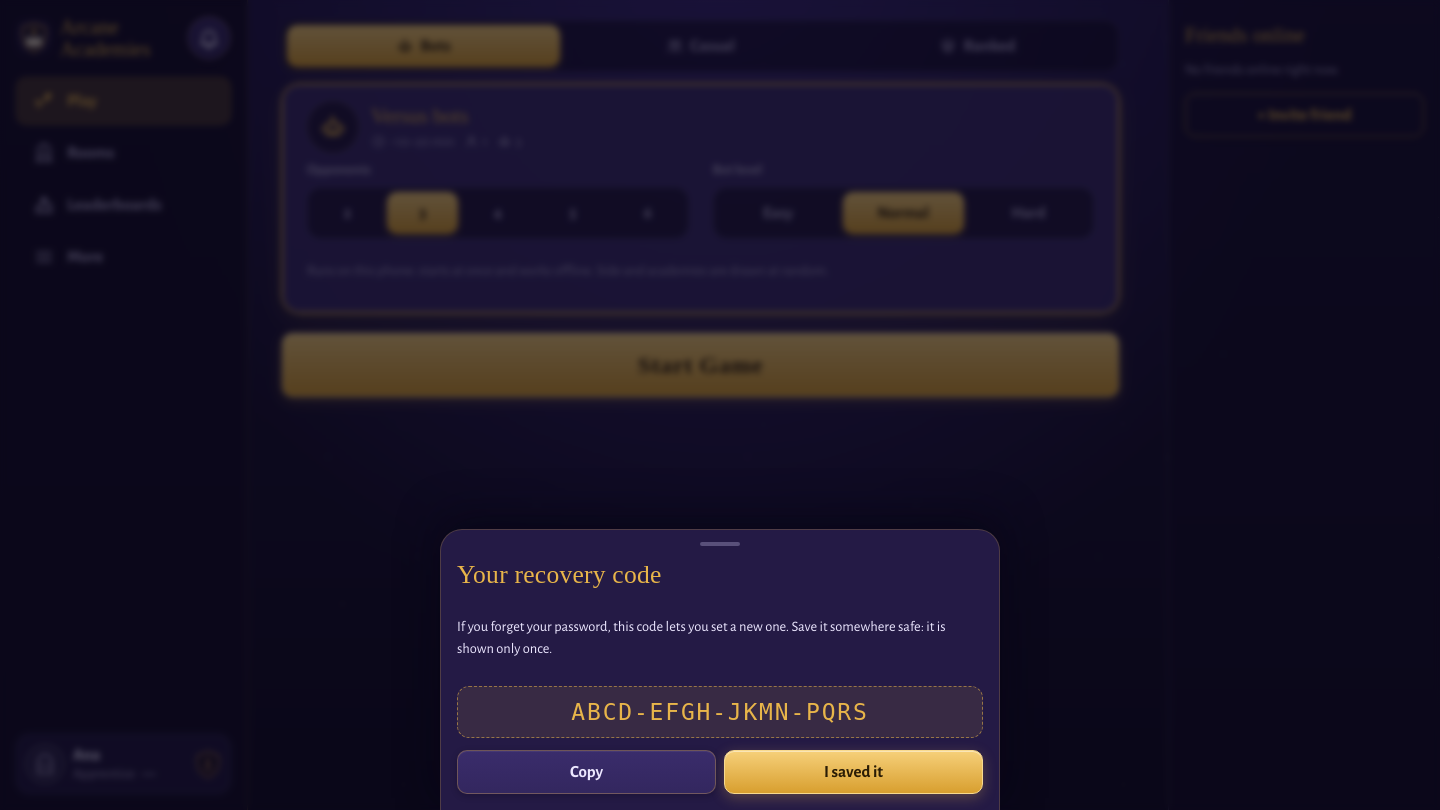
Test: safety client › shows the recovery code after signup until "I saved it"
This screenshot has width=1440, height=810.
Check: the text "ABCD-EFGH-JKMN-PQRS" is shown, box [457, 686, 983, 738]
Check: the button "Copy" is shown, box [457, 750, 716, 794]
Click the button "I saved it" at x=854, y=772, box [724, 750, 983, 794]
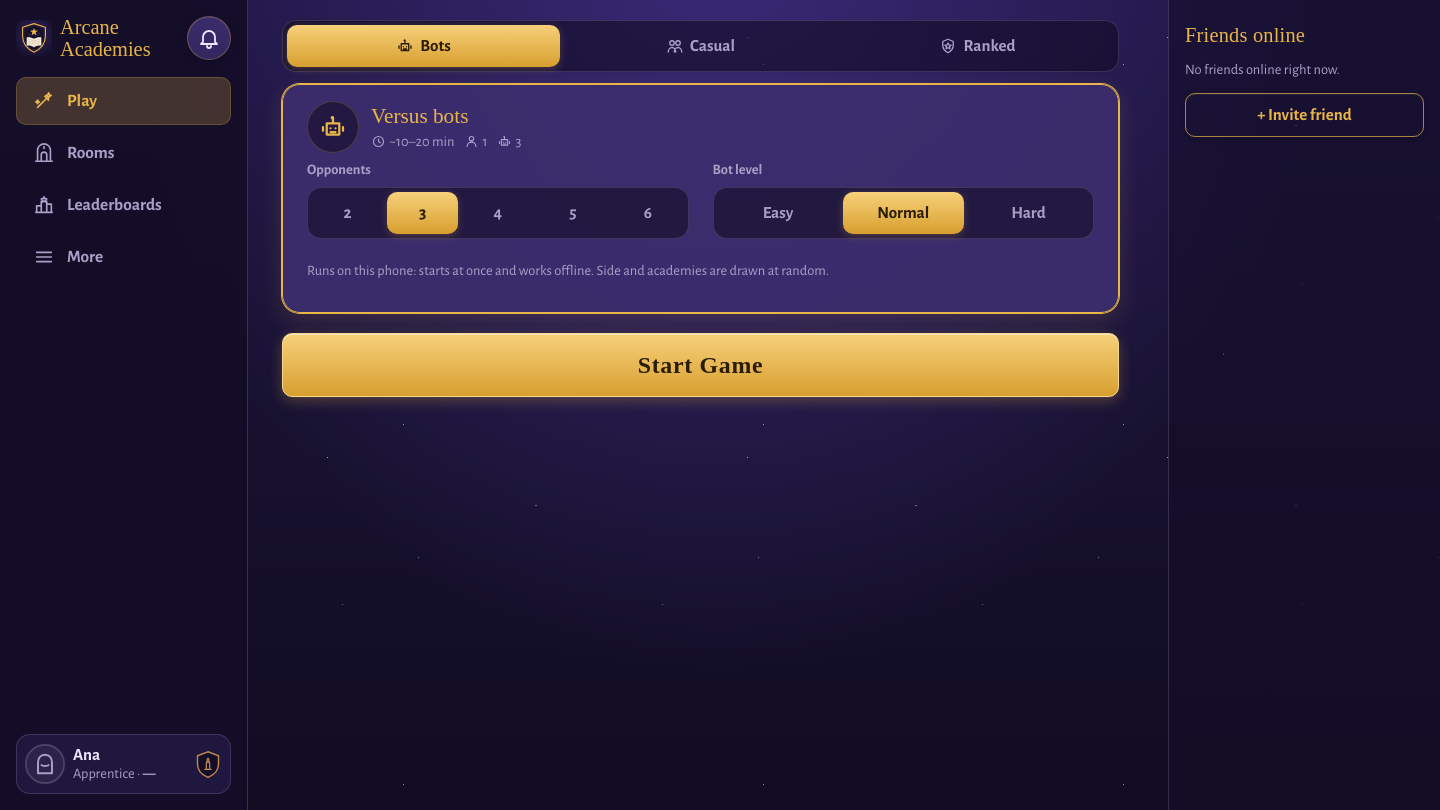
Check: the dialog is gone
